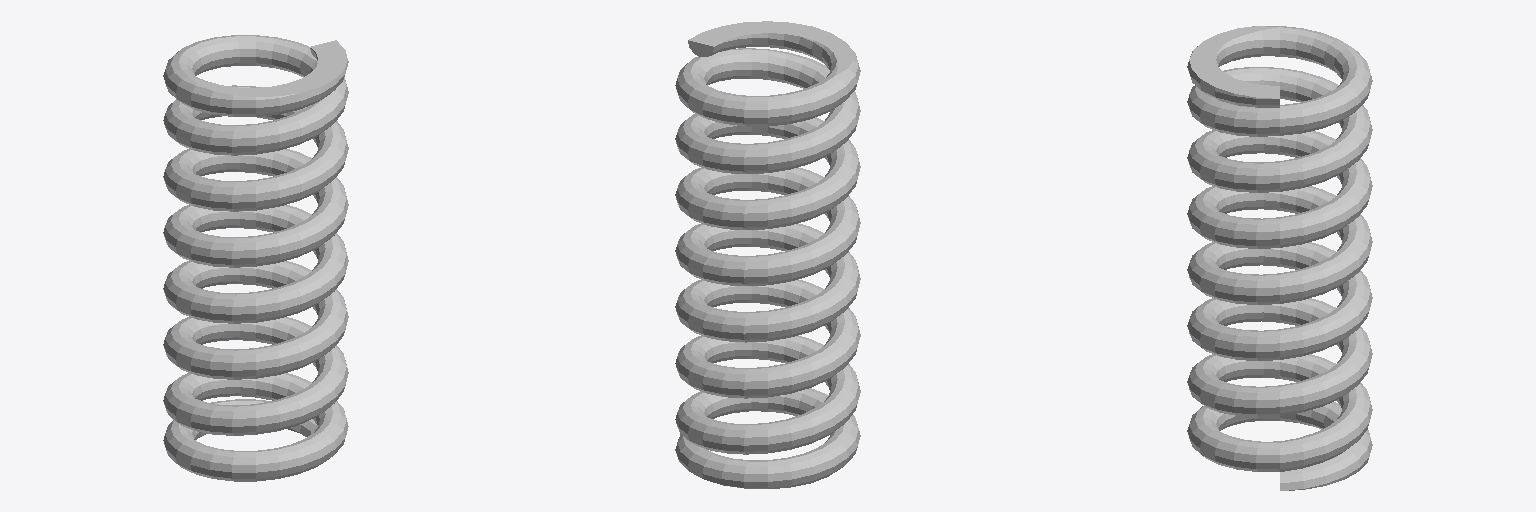
Rendered from spring.obj.
The picture shows the model from 3 angles: view 1: azimuth 30°, elevation 25°; view 2: azimuth 150°, elevation 25°; view 3: azimuth 270°, elevation 25°; orthographic projection.
Visible parts, largest first — view 1: Component_17_001, Component_10_001, Component_9_006, Component_12_046, Component_12_022, Component_12_142, Component_12_094, Component_12_118, Component_12_070, Component_9_014, Component_12_131, Component_12_107 (+28 smaller); view 2: Component_10_001, Component_17_001, Component_12_062, Component_12_038, Component_9_019, Component_12_110, Component_12_086, Component_12_134, Component_12_014, Component_9_010, Component_12_123, Component_12_075 (+28 smaller); view 3: Component_17_001, Component_10_001, Component_12_126, Component_12_054, Component_12_006, Component_12_102, Component_12_078, Component_9_015, Component_12_030, Component_12_115, Component_12_067, Component_12_019 (+28 smaller).
Boxes of the visible parts, x1=… form: Component_17_001: x1=176, y1=40, x2=348, y2=116; Component_10_001: x1=163, y1=399, x2=317, y2=463; Component_9_006: x1=232, y1=451, x2=255, y2=481; Component_12_046: x1=256, y1=121, x2=279, y2=154; Component_12_022: x1=256, y1=289, x2=279, y2=322; Component_12_142: x1=256, y1=401, x2=279, y2=434; Component_12_094: x1=256, y1=345, x2=279, y2=378; Component_12_118: x1=256, y1=177, x2=279, y2=210; Component_12_070: x1=256, y1=233, x2=279, y2=266; Component_9_014: x1=256, y1=449, x2=279, y2=481; Component_12_131: x1=232, y1=404, x2=255, y2=435; Component_12_107: x1=232, y1=180, x2=255, y2=211; Component_10_001: x1=675, y1=434, x2=847, y2=488; Component_17_001: x1=688, y1=21, x2=860, y2=98; Component_12_062: x1=768, y1=251, x2=791, y2=284; Component_12_038: x1=768, y1=139, x2=791, y2=172; Component_9_019: x1=744, y1=96, x2=767, y2=126; Component_12_110: x1=768, y1=195, x2=791, y2=228; Component_12_086: x1=768, y1=363, x2=791, y2=396; Component_12_134: x1=768, y1=420, x2=791, y2=452; Component_12_014: x1=768, y1=307, x2=791, y2=340; Component_9_010: x1=768, y1=94, x2=791, y2=126; Component_12_123: x1=744, y1=423, x2=767, y2=454; Component_12_075: x1=744, y1=367, x2=767, y2=398; Component_17_001: x1=1187, y1=26, x2=1279, y2=107; Component_10_001: x1=1280, y1=402, x2=1372, y2=490; Component_12_126: x1=1280, y1=438, x2=1303, y2=471; Component_12_054: x1=1280, y1=270, x2=1303, y2=303; Component_12_006: x1=1280, y1=326, x2=1303, y2=359; Component_12_102: x1=1280, y1=214, x2=1303, y2=247; Component_12_078: x1=1280, y1=382, x2=1303, y2=415; Component_9_015: x1=1280, y1=103, x2=1303, y2=135; Component_12_030: x1=1280, y1=158, x2=1303, y2=191; Component_12_115: x1=1256, y1=161, x2=1279, y2=192; Component_12_067: x1=1256, y1=217, x2=1279, y2=248; Component_12_019: x1=1256, y1=273, x2=1279, y2=304.
Bounding box in the file's own units: 5.91 × 13.78 × 5.91.